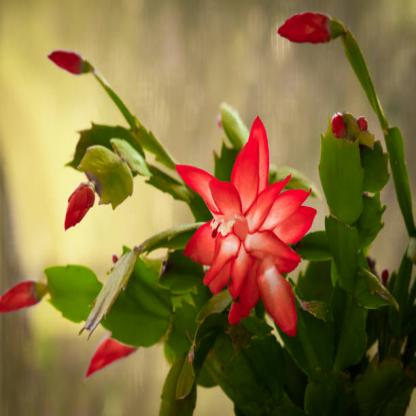Aglonema: (41, 26, 399, 408)
